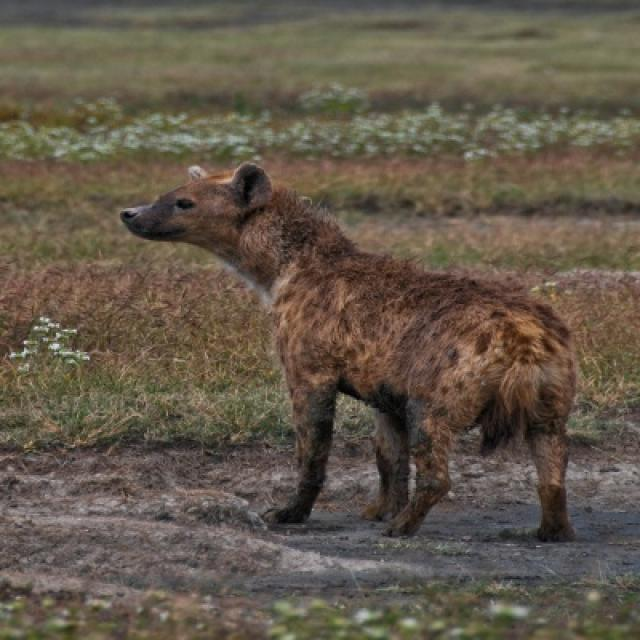hyena: (120, 163, 574, 539)
